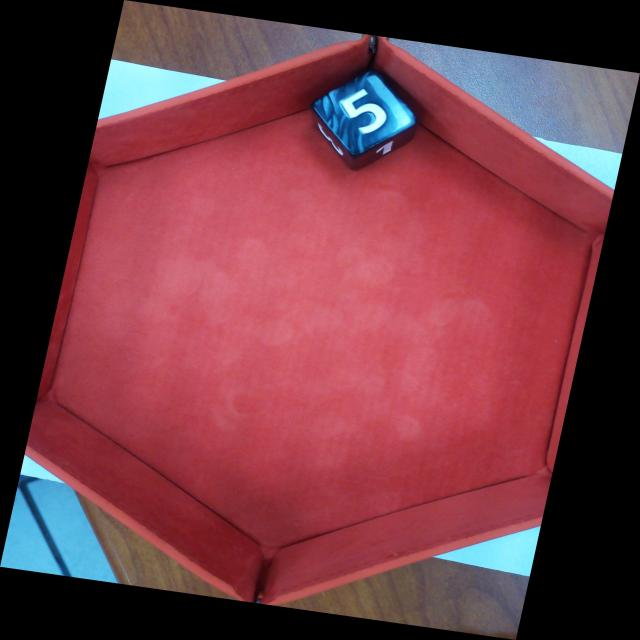dice: (305, 67, 424, 162)
